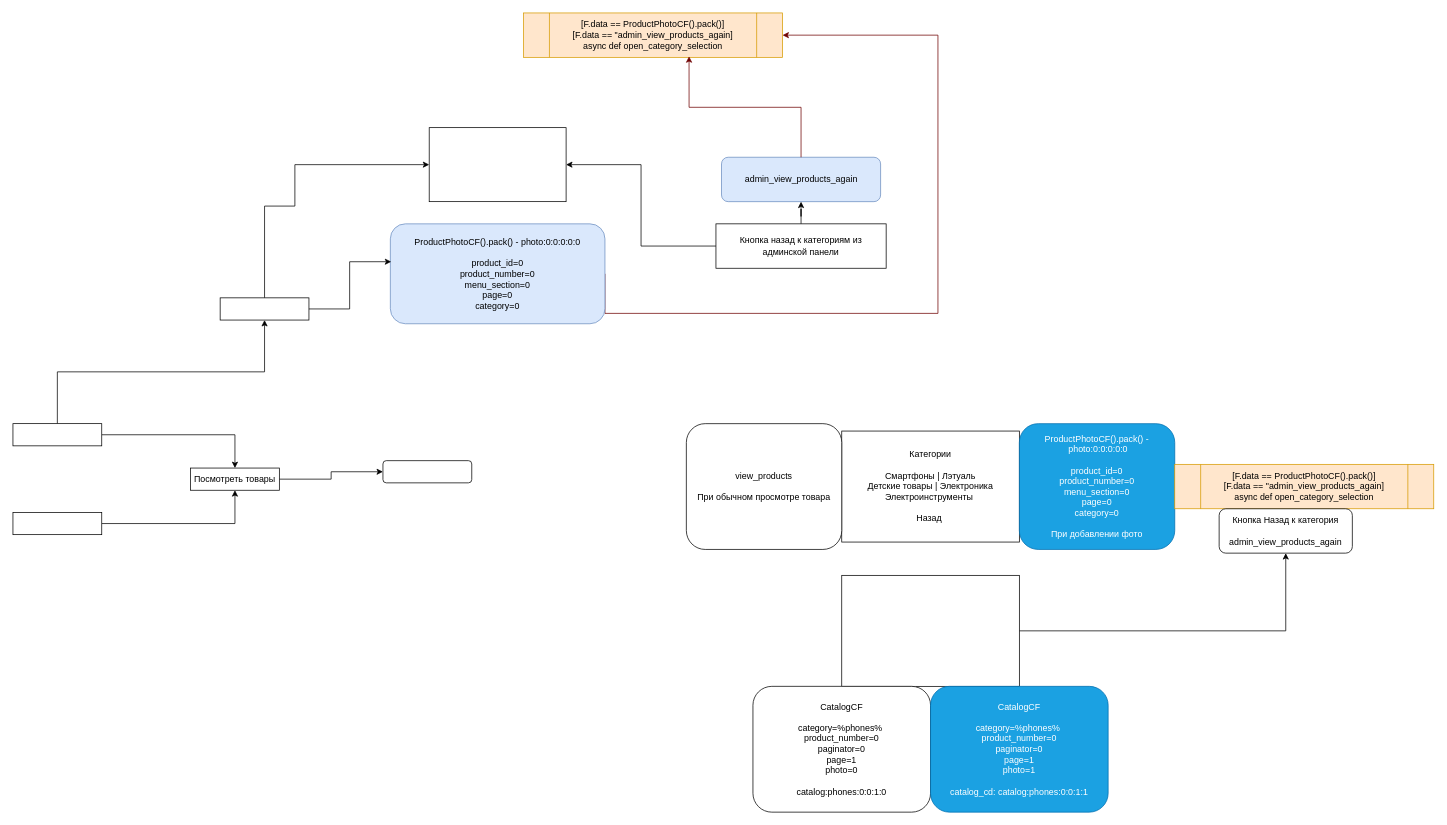
Some shapes in this 1447 by 825 pixel diagram are drawn without their labels. Each missing label, with the centre of its shape:
"Admin" goes at point (57, 434).
"User" goes at point (57, 523).
"view_products" goes at point (427, 471).
"Добавить фото" goes at point (264, 308).
"Категории товаров для добавления фото" goes at point (497, 164).
"Смартфоны Телефон 1 Телефон 2 Телефон 3 След стр. Назад к категория" goes at point (930, 630).
